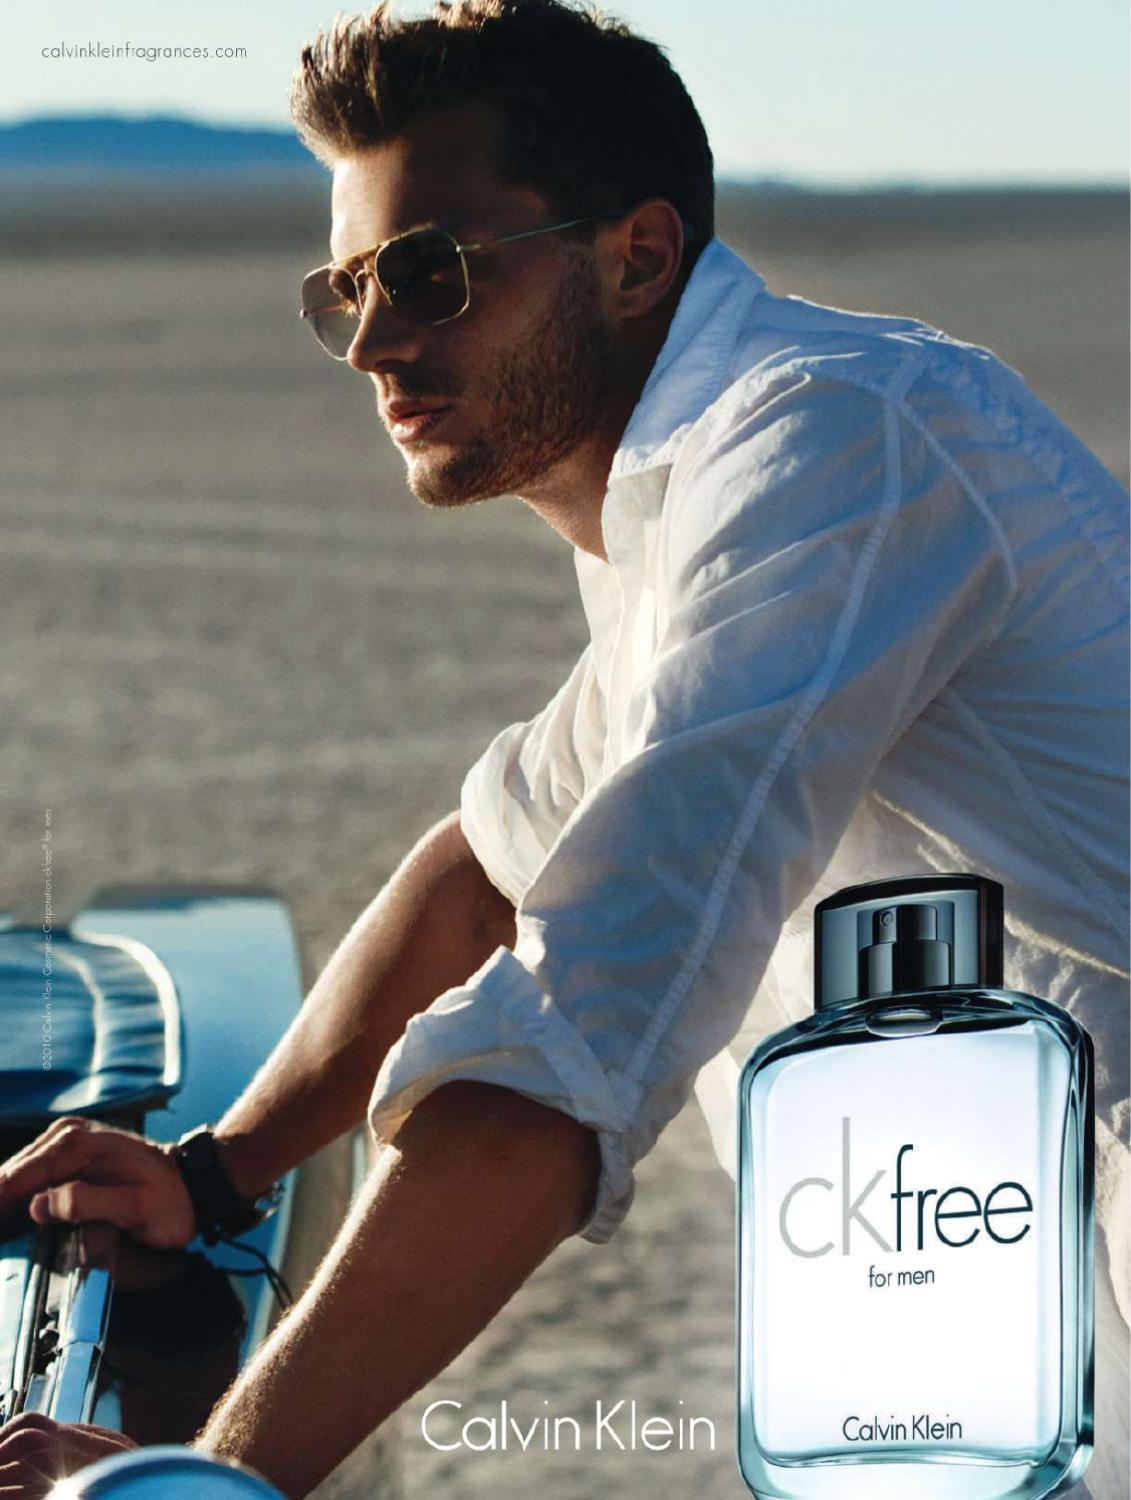Calvin Klein: (405, 1371, 732, 1467), (767, 1113, 896, 1258), (832, 1394, 977, 1456)
